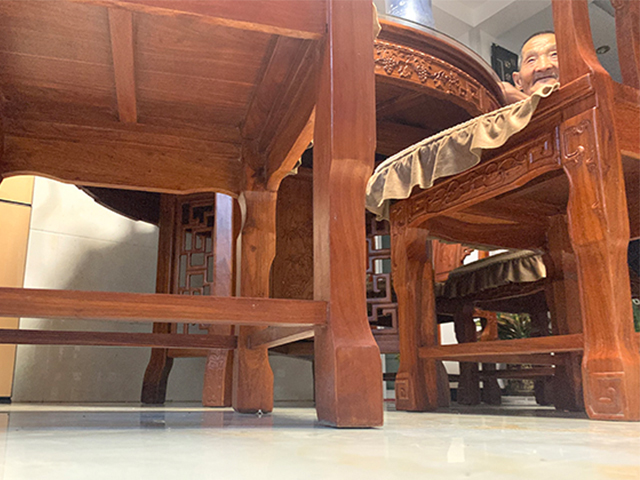stool: (1, 1, 384, 429), (364, 1, 640, 421)
